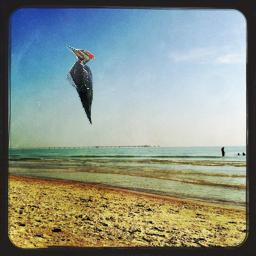Woodpecker: (65, 45, 95, 125)
